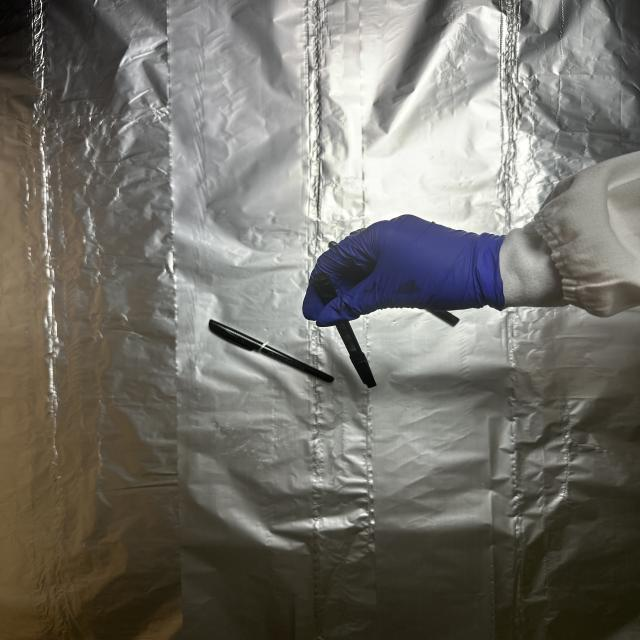gloves_contaminated: (303, 215, 505, 326)
